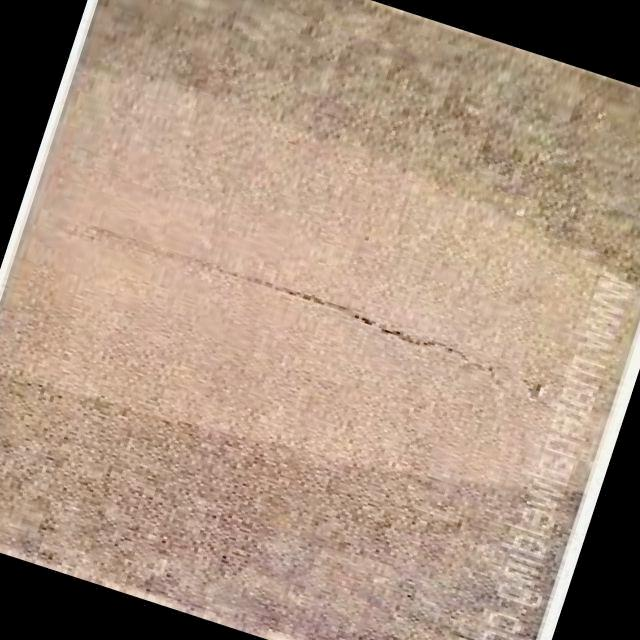defect: (77, 226, 515, 398)
